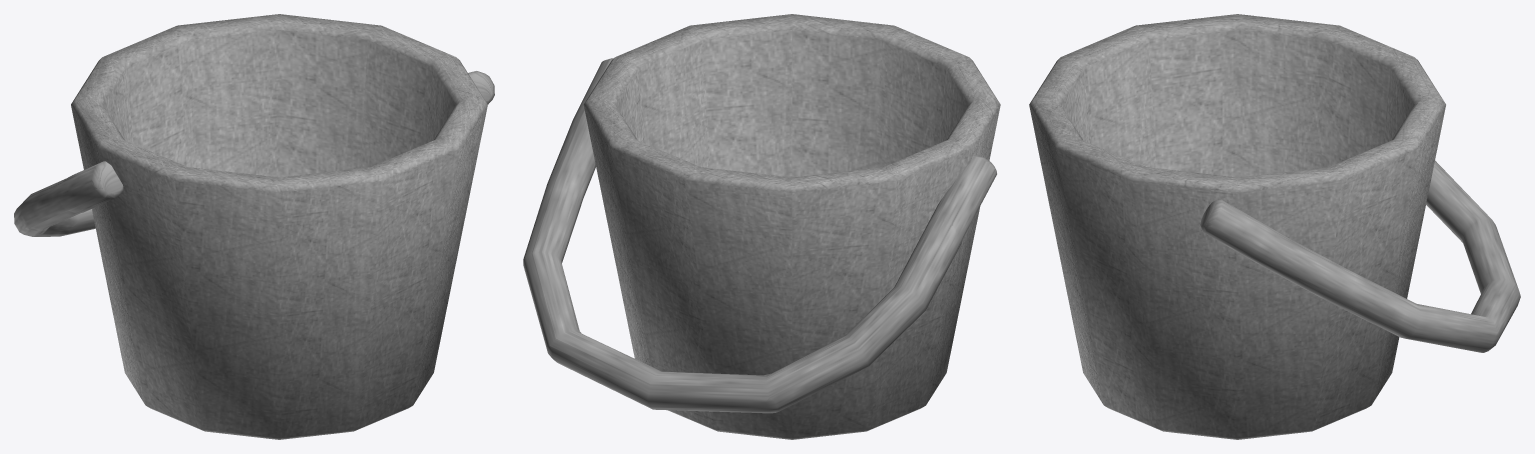
Rendered from kova.fbx.
3 views of the same model, side by side, from view 1: azimuth 30°, elevation 25°; view 2: azimuth 150°, elevation 25°; view 3: azimuth 270°, elevation 25° (orthographic).
Visible parts, largest first — view 1: kova; view 2: kova; view 3: kova.
Part boxes in pixels (box(x1,y1,x2,y2)): kova: box(14, 14, 494, 439); kova: box(523, 14, 1000, 439); kova: box(1029, 14, 1520, 439).
Size of the model in its own units: 194 by 128 by 207.
